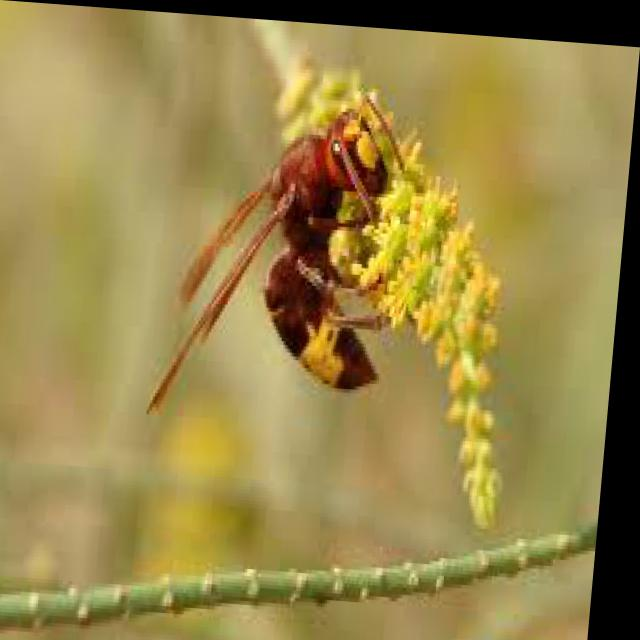Vespa Orientalis: (130, 56, 455, 468)
